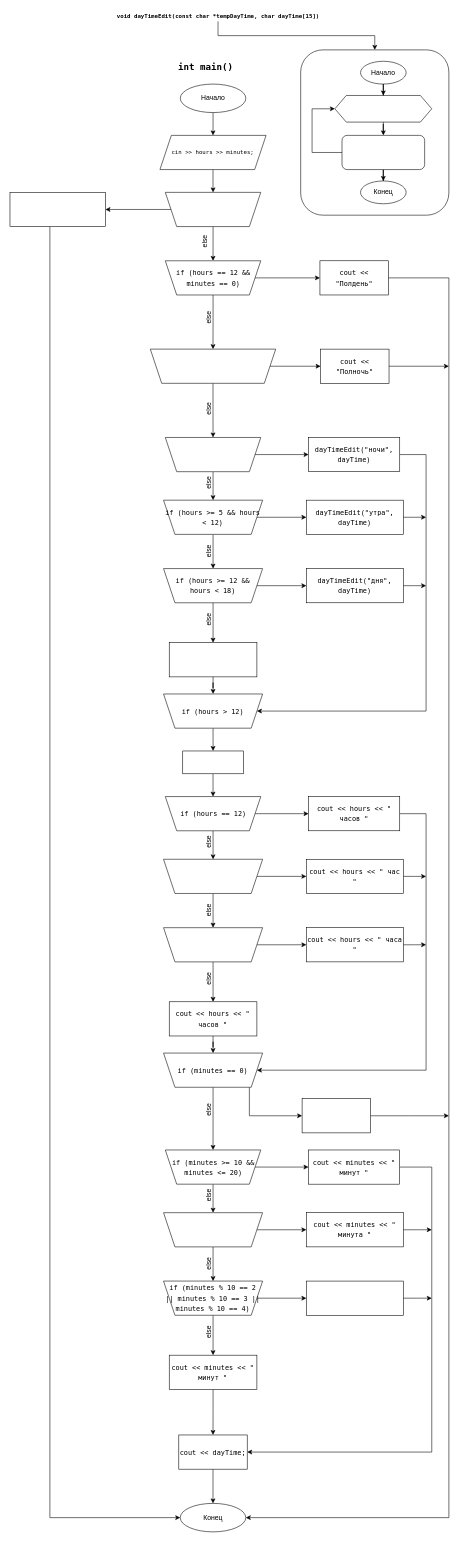
Some shapes in this 463 by 1542 pixel diagram are drawn without their labels. The shapes that lost their labels are listed below. From the top down, each one's centre as x and y in pixels, then its label:
point 383,108: for (int i = 0; i < sizeof(tempDayTime); i++)
point 383,152: dayTime[i] = tempDayTime[i];
point 57,209: cout << "Введены недопустимые данные!";
point 213,209: if (hours > 24 || minutes > 59)
point 213,366: if (( hours == 24 || hours == 0 ) && minutes == 0 )
point 213,454: if ( hours == 24 || hours >= 0 && hours < 5 )
point 213,659: dayTimeEdit ( "вечера" , dayTime )
point 212,762: hours -= 12
point 213,876: if ( hours % 10 == 1 )
point 213,944: if ( hours % 10 == 2 || hours % 10 == 3 || hours % 10 == 4 )
point 336,1115: cout << dayTime << " ровно"
point 213,1229: if ( minutes % 10 == 1 )
point 354,1298: cout << minutes << " минуты "
